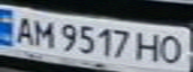1: (93, 25, 115, 57)
5: (75, 22, 96, 55)
7: (112, 26, 136, 60)
9: (54, 20, 81, 53)
A: (6, 12, 39, 46)
H: (133, 29, 163, 63)
M: (30, 16, 57, 48)
O: (157, 33, 187, 66)
